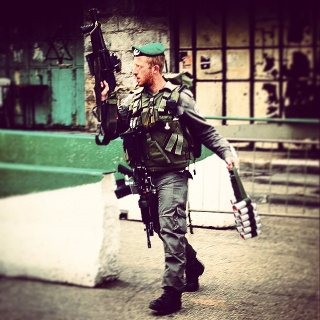rifle: (114, 129, 161, 250), (78, 5, 124, 98)
